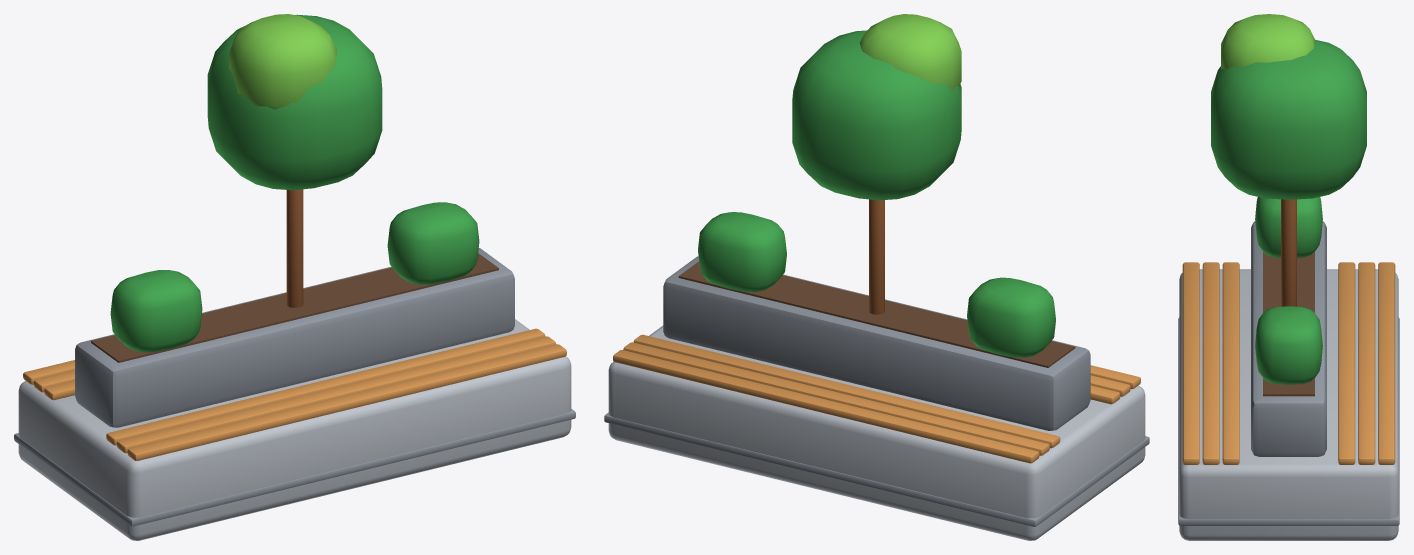
Rendered from floreira_concreto_grande.glb.
3 renders of one model, left to right at view 1: azimuth 30°, elevation 25°; view 2: azimuth 150°, elevation 25°; view 3: azimuth 270°, elevation 25°, orthographic. The views are drawn at different scales.
Visible parts, largest first — view 1: floreira_concreto_grande; view 2: floreira_concreto_grande; view 3: floreira_concreto_grande.
Part boxes in pixels (box(x1,y1,x2,y2)): floreira_concreto_grande: box(14, 14, 575, 540); floreira_concreto_grande: box(604, 14, 1149, 540); floreira_concreto_grande: box(1178, 14, 1399, 540).
Size of the model in its own units: 2.41 by 2.27 by 1.11.
Materials: 1 (1 with a texture image).
